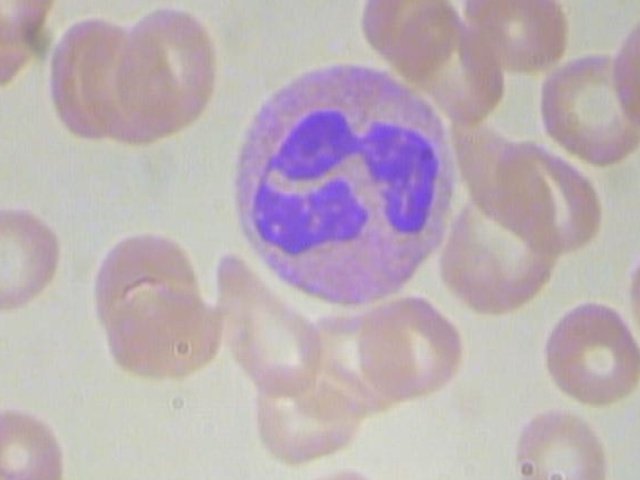RBC: (210, 251, 327, 399), (109, 0, 223, 140), (490, 132, 608, 258), (99, 270, 230, 382), (354, 283, 467, 405), (535, 49, 640, 171), (537, 294, 640, 413), (502, 398, 618, 480), (459, 0, 573, 77), (0, 200, 66, 316), (347, 0, 457, 64), (0, 399, 74, 480)
WBC: (222, 53, 465, 313)
